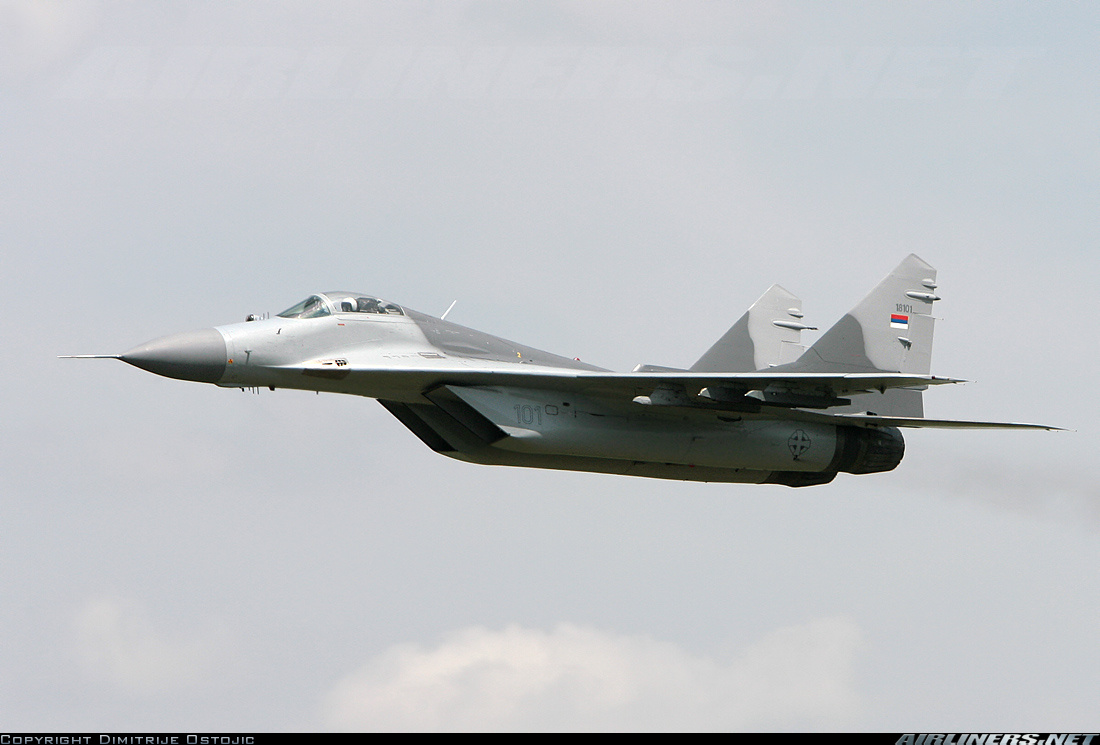Mig-29: (57, 219, 1061, 526)
